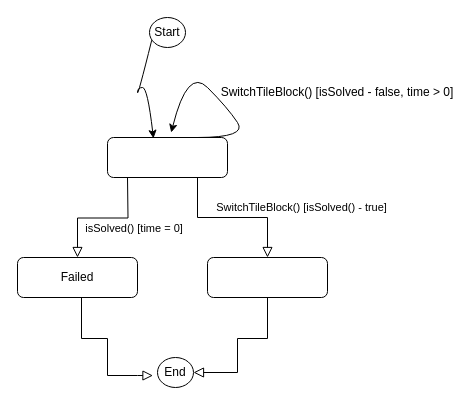
This 475x405 diagram has some shape labels left out. The shapes that lost their labels are listed below. From the top down, each one's box as (x1, y1, x2, y2) in pixels, then its label:
(106, 136, 228, 178): Playing
(206, 256, 328, 298): Solved
